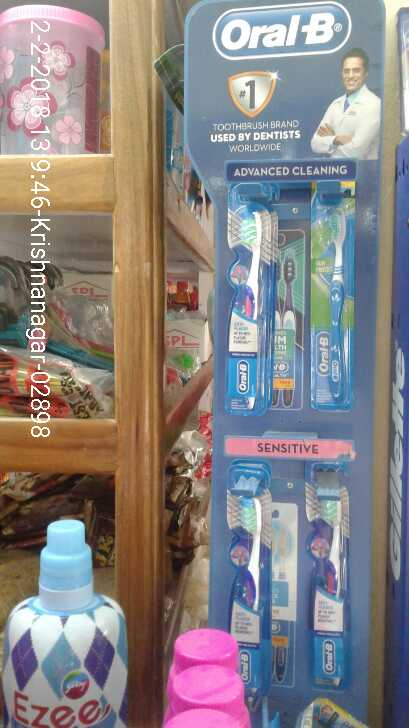oralb: (319, 193, 361, 405), (307, 491, 347, 684), (226, 488, 266, 675), (228, 200, 262, 409)
